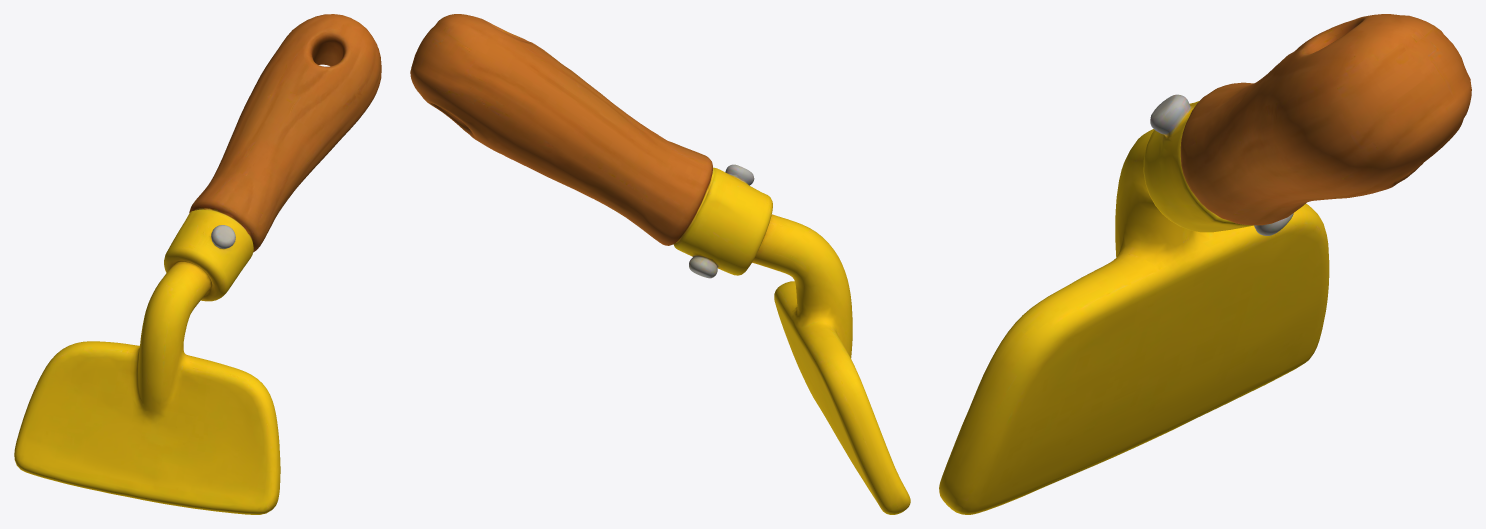
3 views of the same model, side by side, from view 1: azimuth 30°, elevation 25°; view 2: azimuth 150°, elevation 25°; view 3: azimuth 270°, elevation 25° (orthographic). The views are drawn at different scales.
Parts seen in each view (by area): view 1: hoe; view 2: hoe; view 3: hoe.
Part boxes in pixels (x1,y1,x2,y2): hoe: (14,14,381,514); hoe: (410,14,910,514); hoe: (939,14,1471,514).
Size of the model in its own units: 0.35 by 0.3177 by 0.2336.
Materials: 1 (1 with a texture image).
